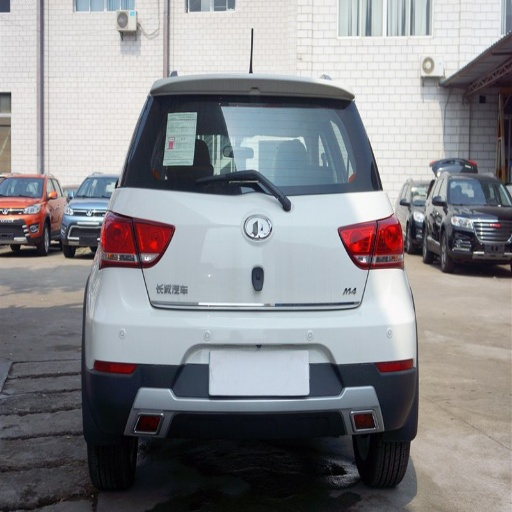back_bumper: (83, 264, 417, 433)
trunk: (119, 189, 392, 308)
